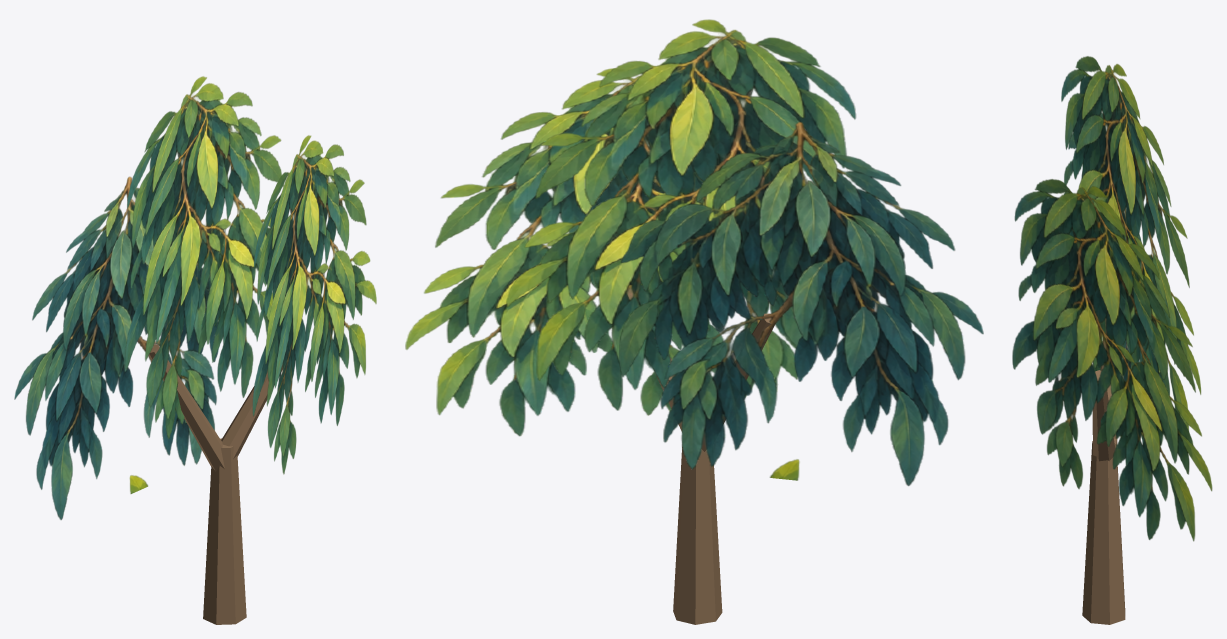
File: TREE_NATIVE_ROUNDED_001_V4_TOP_CORRECTED_LOD_MAP.glb
The picture shows the model from 3 angles, left to right: view 1: azimuth 30°, elevation 25°; view 2: azimuth 150°, elevation 25°; view 3: azimuth 270°, elevation 25°; orthographic projection. The views are drawn at different scales.
Visible parts, largest first — view 1: GG_NATIVE_RICH_CARD_00, GG_NATIVE_RICH_CARD_01, GG_NATIVE_RICH_CARD_02, GG_NATIVE_V4_LOCKED_CARCASS_00, GG_NATIVE_V4_LOCKED_CARCASS_01, GG_NATIVE_V4_LOCKED_CARCASS_02; view 2: GG_NATIVE_RICH_CARD_01, GG_NATIVE_RICH_CARD_00, GG_NATIVE_RICH_CARD_02, GG_NATIVE_V4_LOCKED_CARCASS_00; view 3: GG_NATIVE_RICH_CARD_02, GG_NATIVE_RICH_CARD_00, GG_NATIVE_V4_LOCKED_CARCASS_00, GG_NATIVE_V4_LOCKED_CARCASS_02, GG_NATIVE_RICH_CARD_01.
Part boxes in pixels (box(x1,y1,x2,y2)): GG_NATIVE_RICH_CARD_00: box(125, 76, 283, 438); GG_NATIVE_RICH_CARD_01: box(14, 176, 241, 519); GG_NATIVE_RICH_CARD_02: box(252, 135, 376, 474); GG_NATIVE_V4_LOCKED_CARCASS_00: box(203, 438, 246, 624); GG_NATIVE_V4_LOCKED_CARCASS_01: box(149, 344, 224, 471); GG_NATIVE_V4_LOCKED_CARCASS_02: box(221, 365, 282, 458); GG_NATIVE_RICH_CARD_01: box(619, 122, 983, 485); GG_NATIVE_RICH_CARD_00: box(506, 19, 855, 410); GG_NATIVE_RICH_CARD_02: box(405, 68, 768, 436); GG_NATIVE_V4_LOCKED_CARCASS_00: box(673, 445, 722, 624); GG_NATIVE_RICH_CARD_02: box(1012, 179, 1212, 541); GG_NATIVE_RICH_CARD_00: box(1061, 56, 1201, 430); GG_NATIVE_V4_LOCKED_CARCASS_00: box(1082, 438, 1125, 624); GG_NATIVE_V4_LOCKED_CARCASS_02: box(1092, 370, 1115, 461); GG_NATIVE_RICH_CARD_01: box(1064, 112, 1143, 444).
Bounding box in the file's own units: 37.71 × 44.23 × 14.8.
2 materials, 1 textured.
